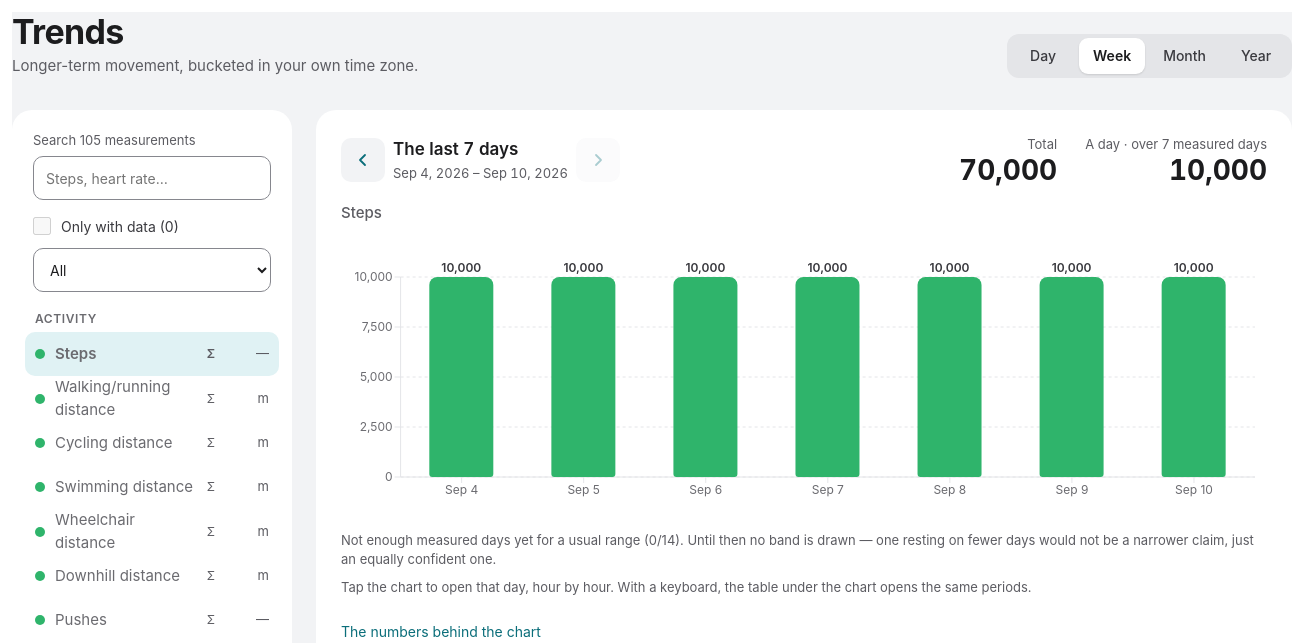
Test: the Trends period stepper › names the level a tap on the chart would open
Note: ⚠️ A month's bars are days, and the hint has to say week anyway.
Click the button "Month". click: (1185, 56)
box: [1149,38,1220,74]
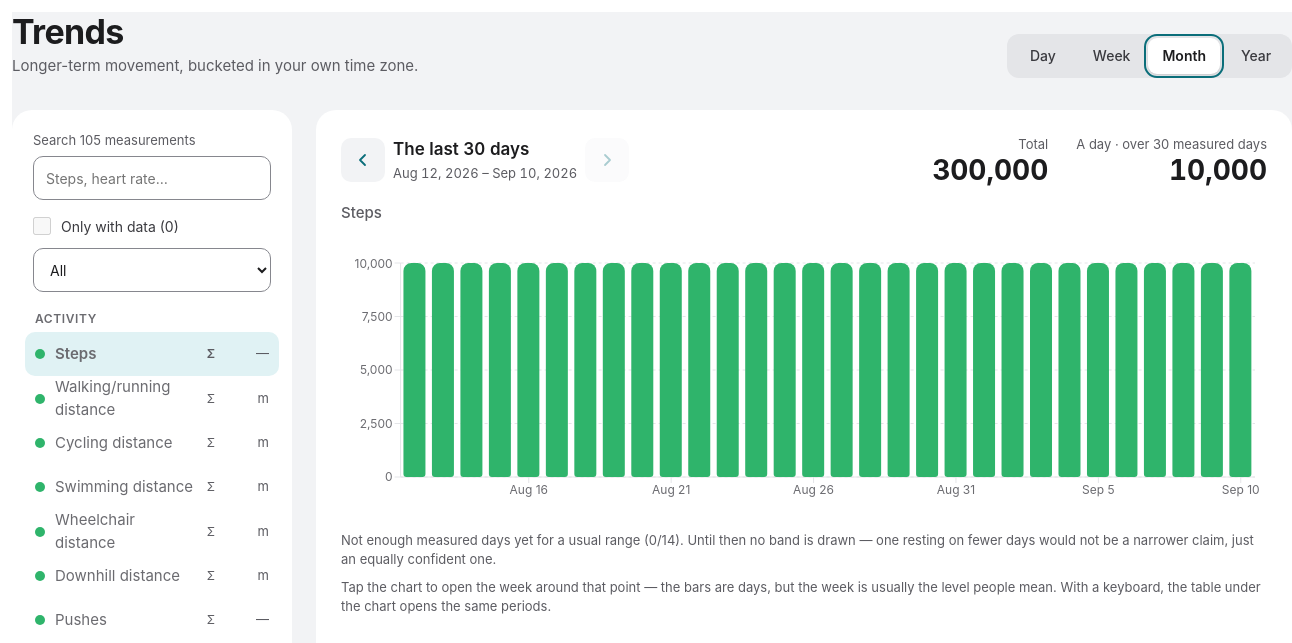
Expected: the text "Tap the chart to open the week around that point" is shown, [341,579,1057,595]
Note: Nothing is finer than an hour, so the day view offers no drill at all.
Click the button "Day". click: (1043, 56)
box: [1011,38,1075,74]
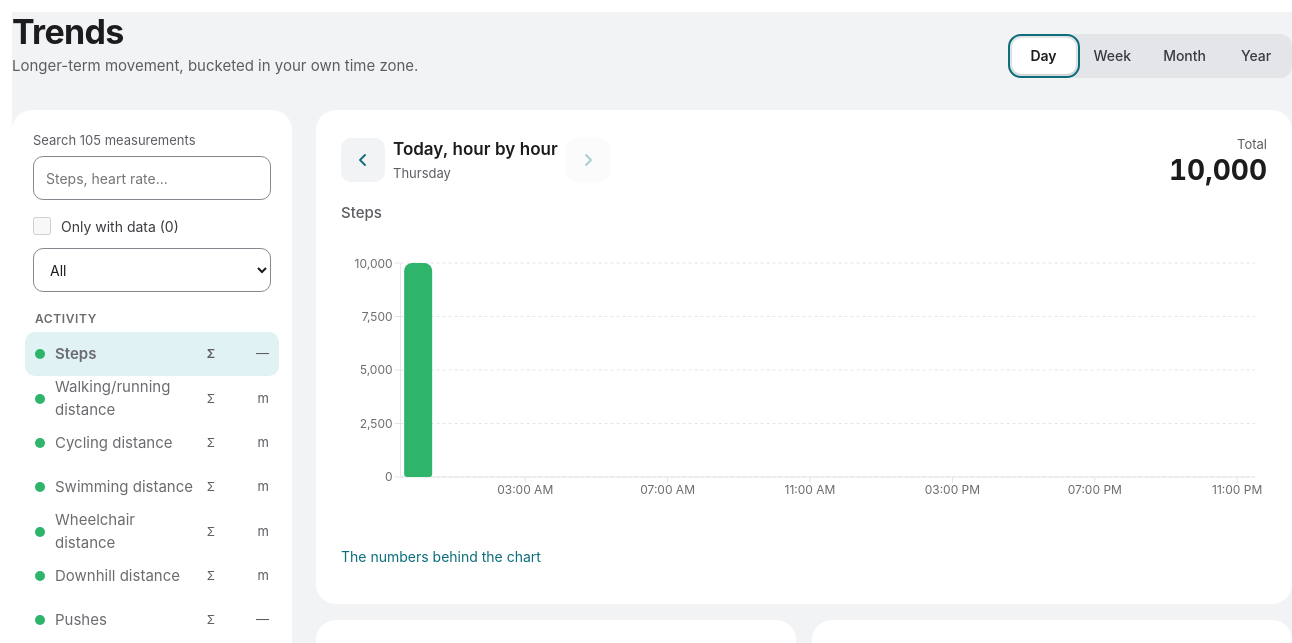
Expected: the text "Today, hour by hour" is shown, [393,137,558,163]
Expected: the text "Tap the chart" is gone
